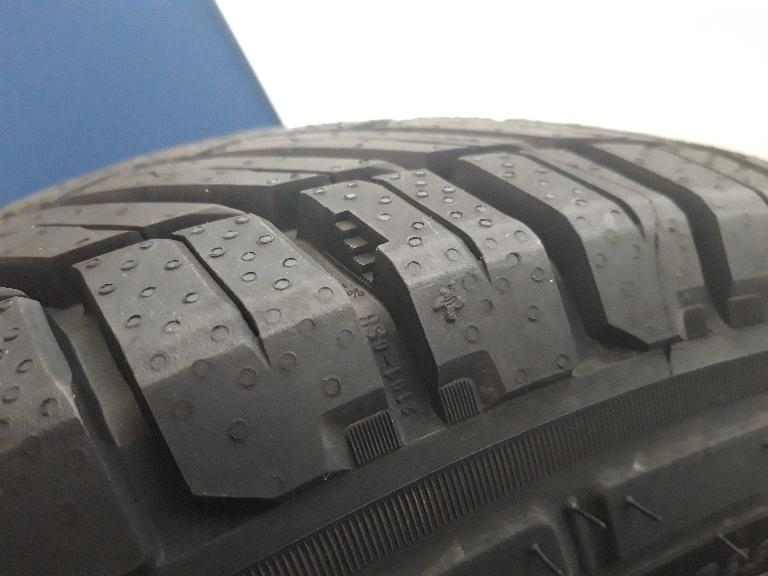temoin:100: (323, 203, 390, 290)
